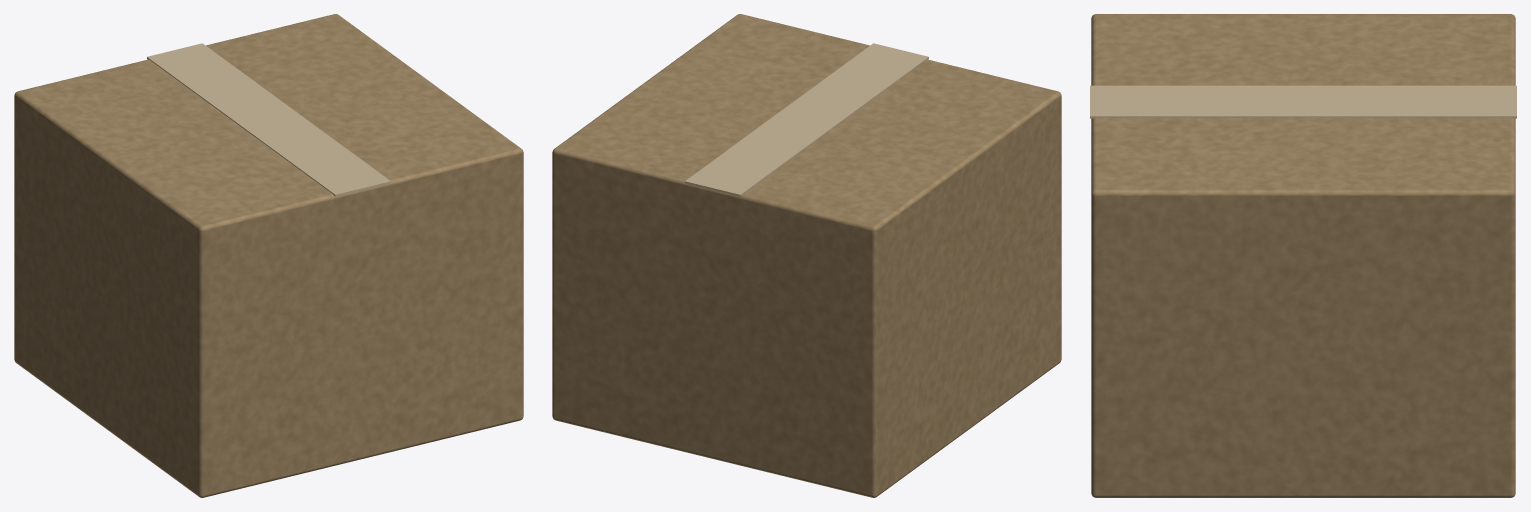
Rendered from box_small.glb.
3 views of the same model, side by side, from view 1: azimuth 30°, elevation 25°; view 2: azimuth 150°, elevation 25°; view 3: azimuth 270°, elevation 25° (orthographic). The views are drawn at different scales.
Visible parts, largest first — view 1: BoxSmall; view 2: BoxSmall; view 3: BoxSmall.
Part boxes in pixels (bbox=[...]): BoxSmall: bbox=[14, 14, 523, 497]; BoxSmall: bbox=[552, 14, 1061, 497]; BoxSmall: bbox=[1090, 14, 1516, 497].
Bounding box in the file's own units: 0.35 × 0.281 × 0.352.
2 materials, 1 textured.
